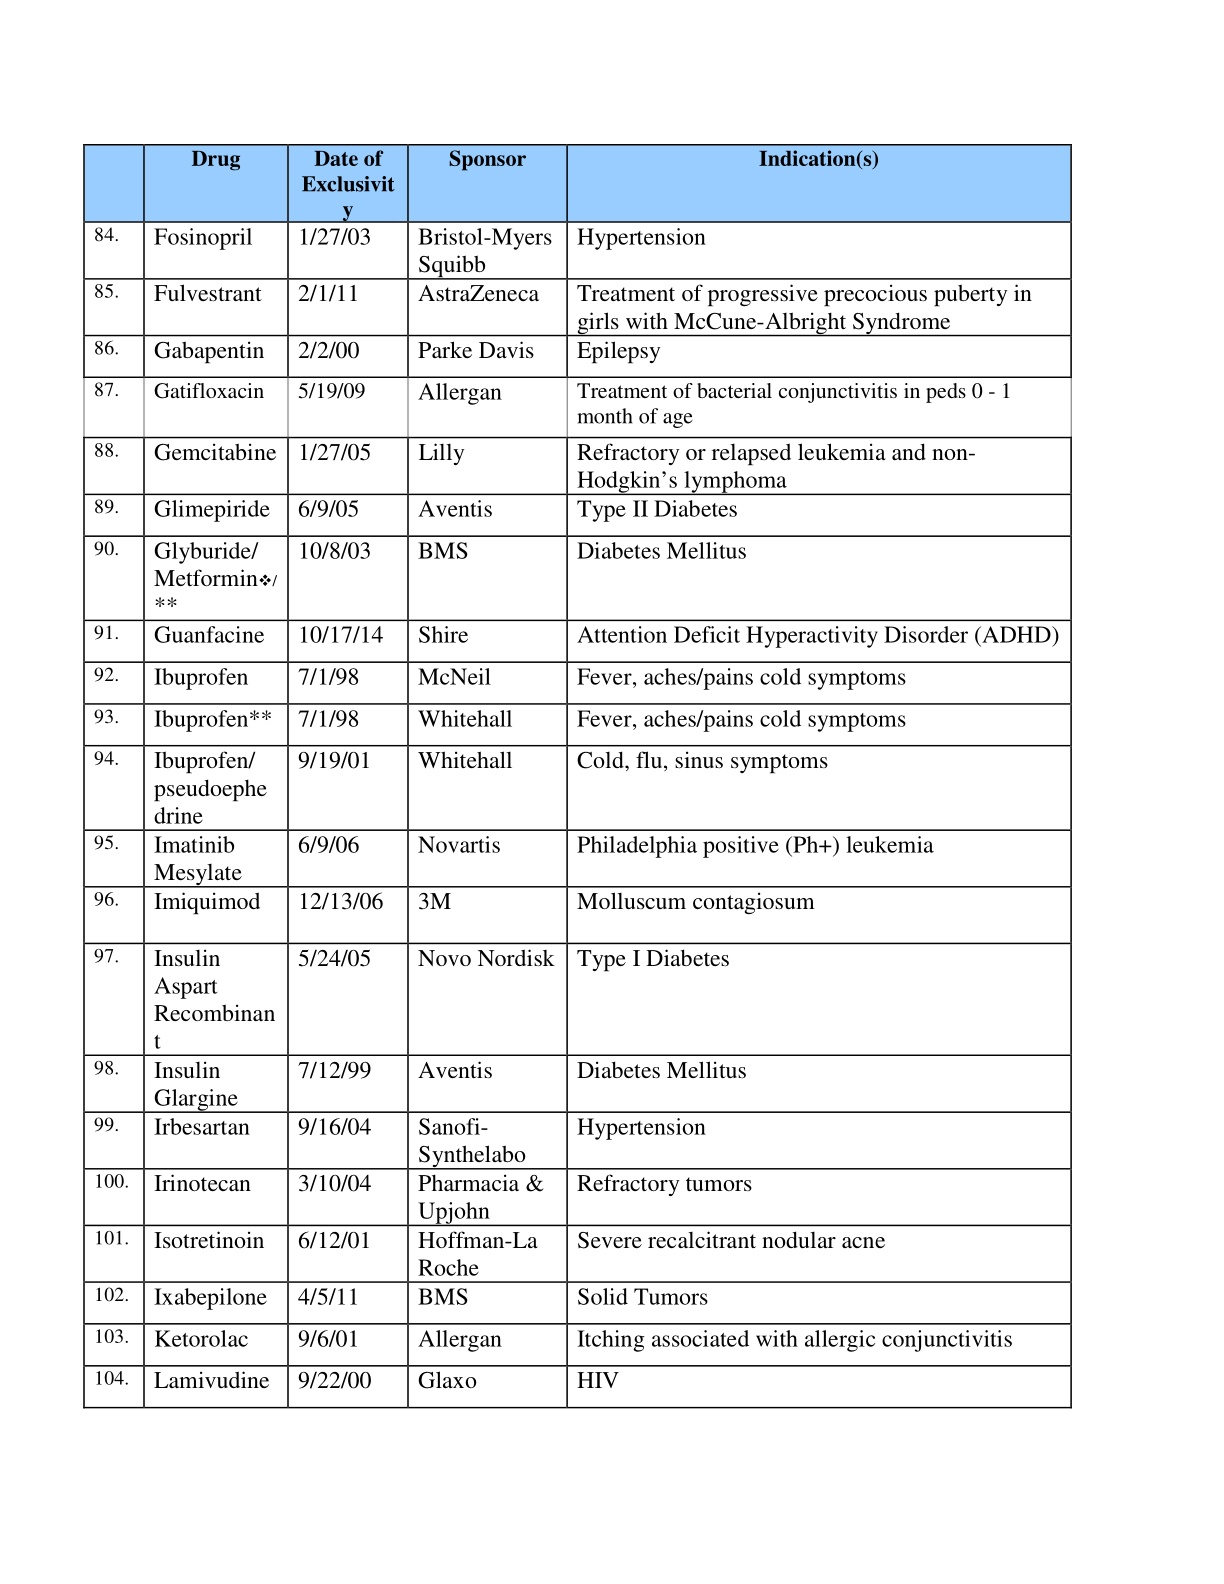full_lined: (84, 143, 1074, 1409)
